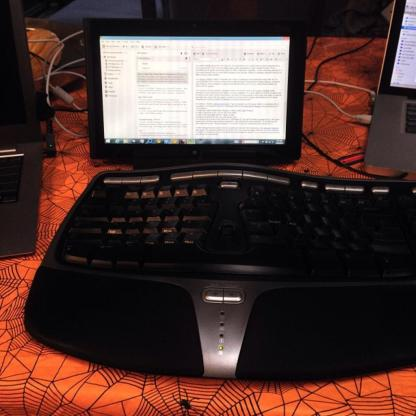board: (0, 0, 46, 260), (360, 0, 416, 167)
